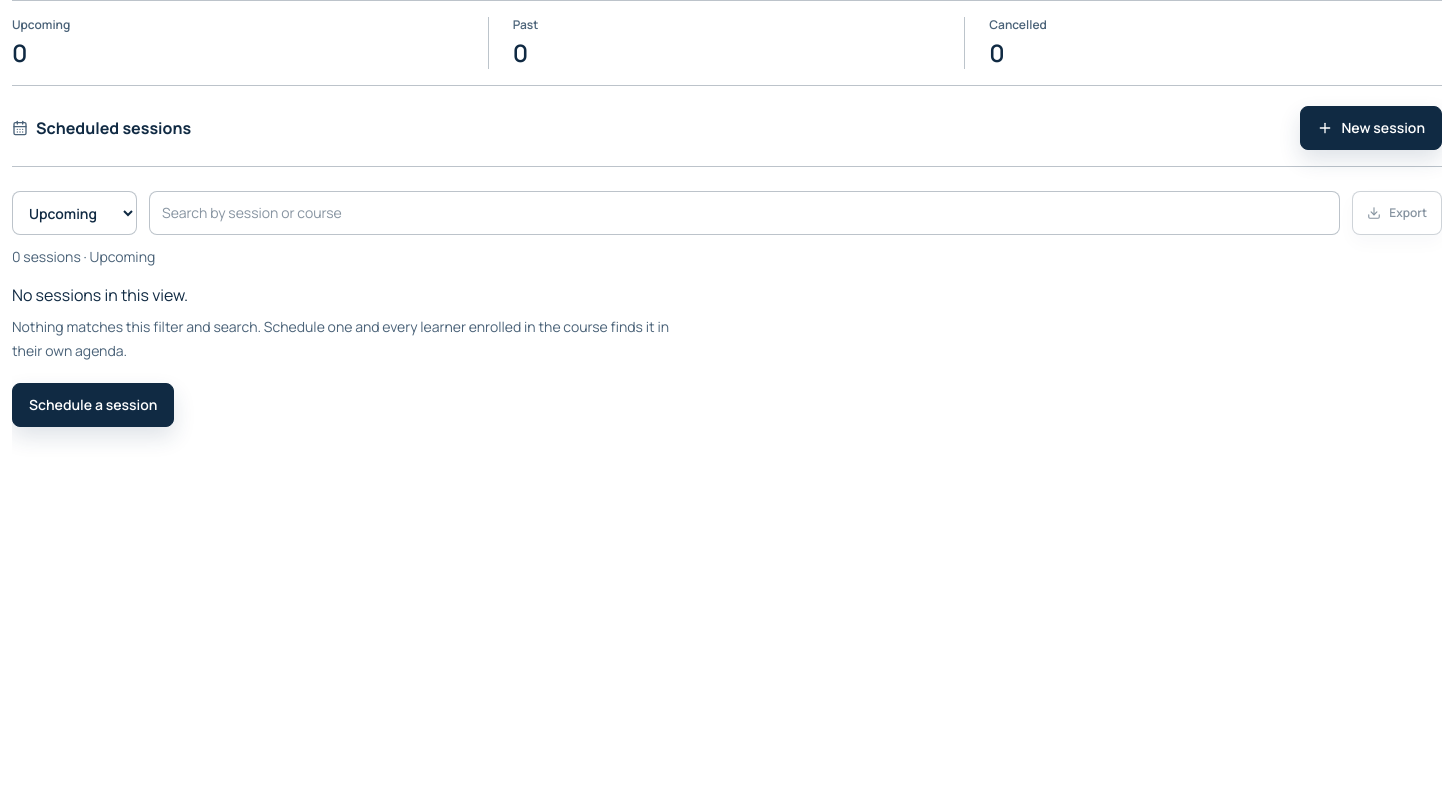
agenda de eventos no padrao da casa › sem sessoes, o vazio tem duas linhas e um botao que abre o formulario
The image size is (1452, 810).
Expected: the heading "No sessions in this view." is shown, [12,284,188,306]
Expected: the text "Nothing matches this filter and search" is shown, [12,317,669,360]
Click the button "Schedule a session": [93, 405] box [12,383,174,427]
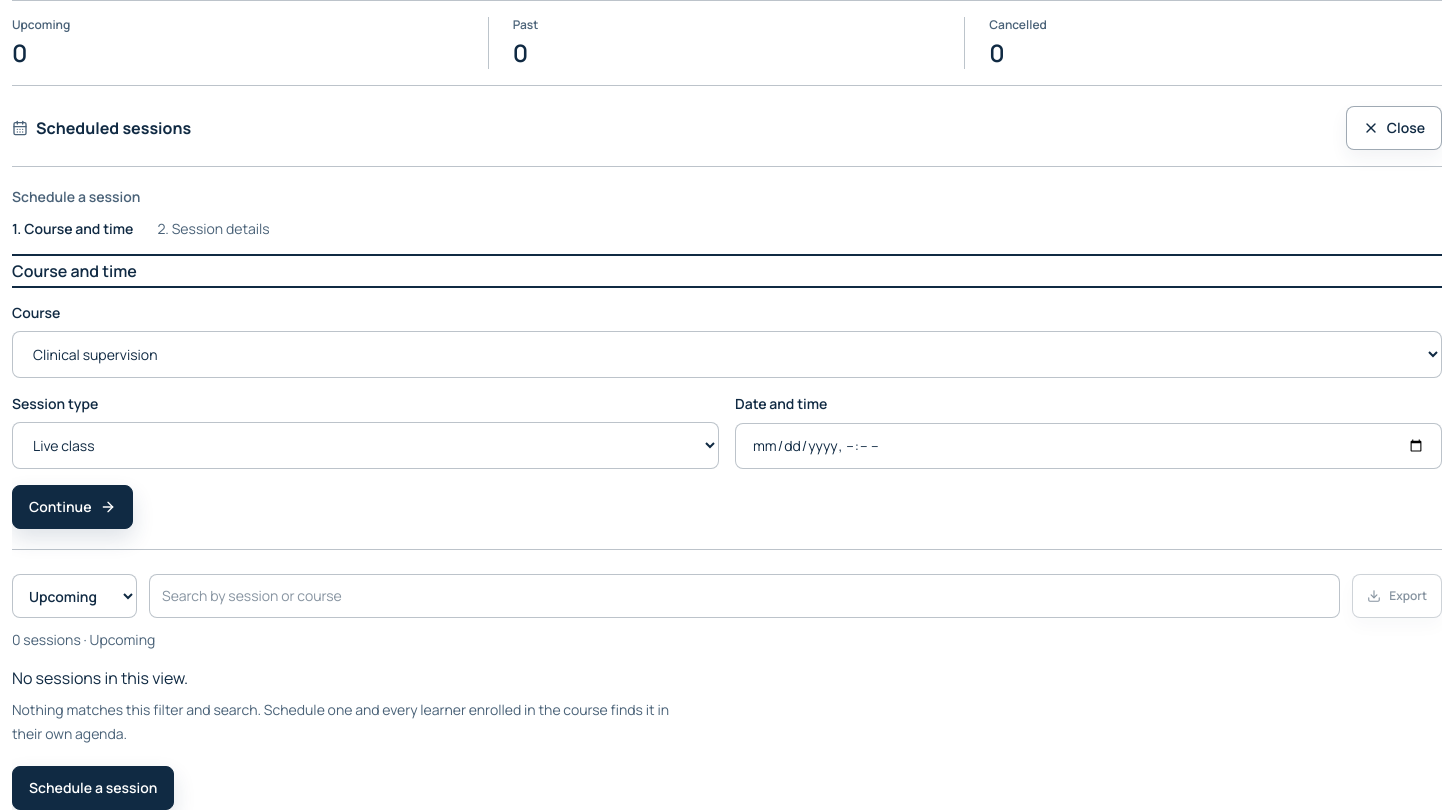
Now the field labelled "Date and time" is shown, box [735,422,1442,469]
